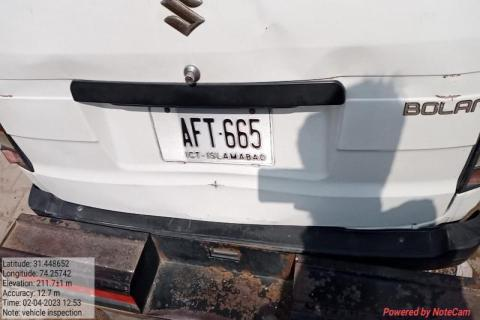LicensePlate: (144, 98, 280, 174)
